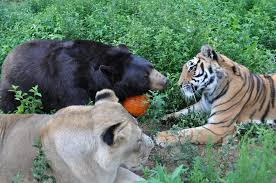lion: (1, 90, 170, 183)
tiger: (151, 41, 276, 165)
